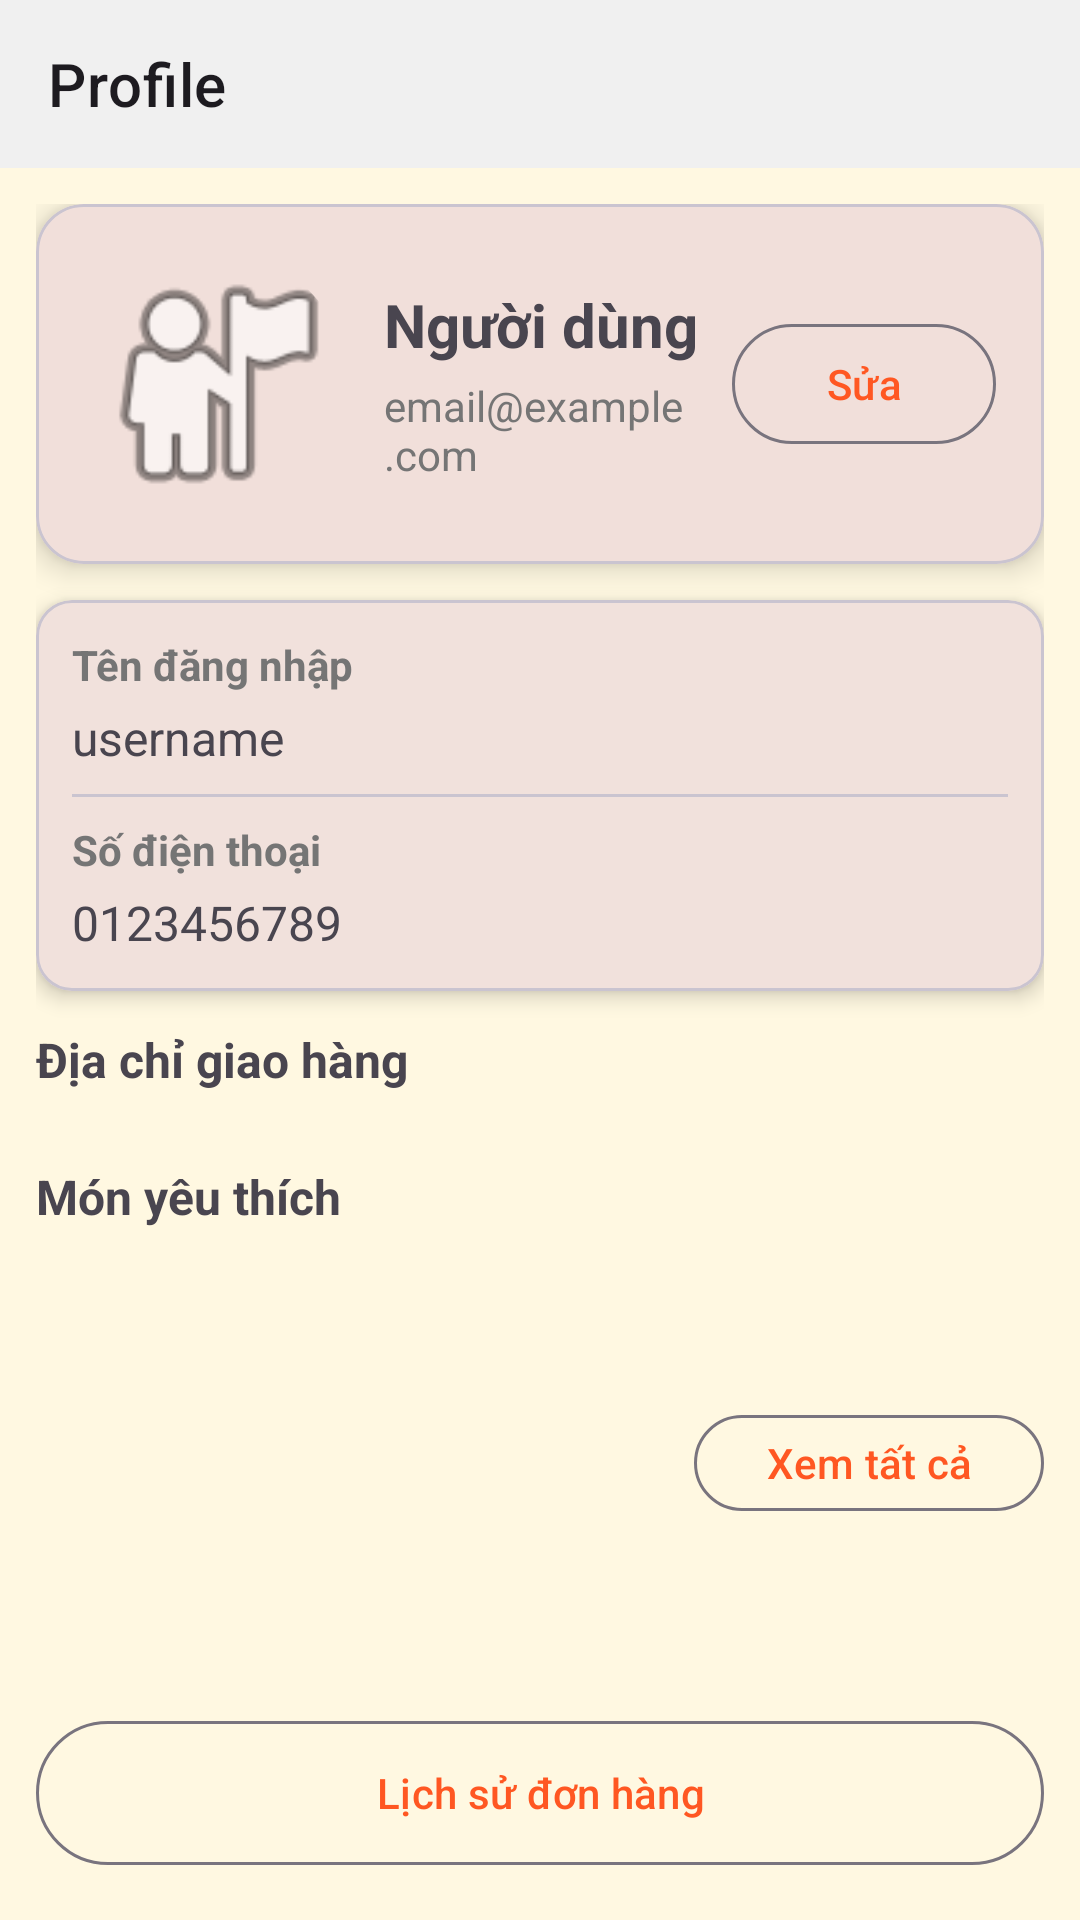

Screen size 1080*1920. Icon name, then its box in pixels as (x1, y1, x2, y2):
myplaces: (119, 285, 318, 483)
